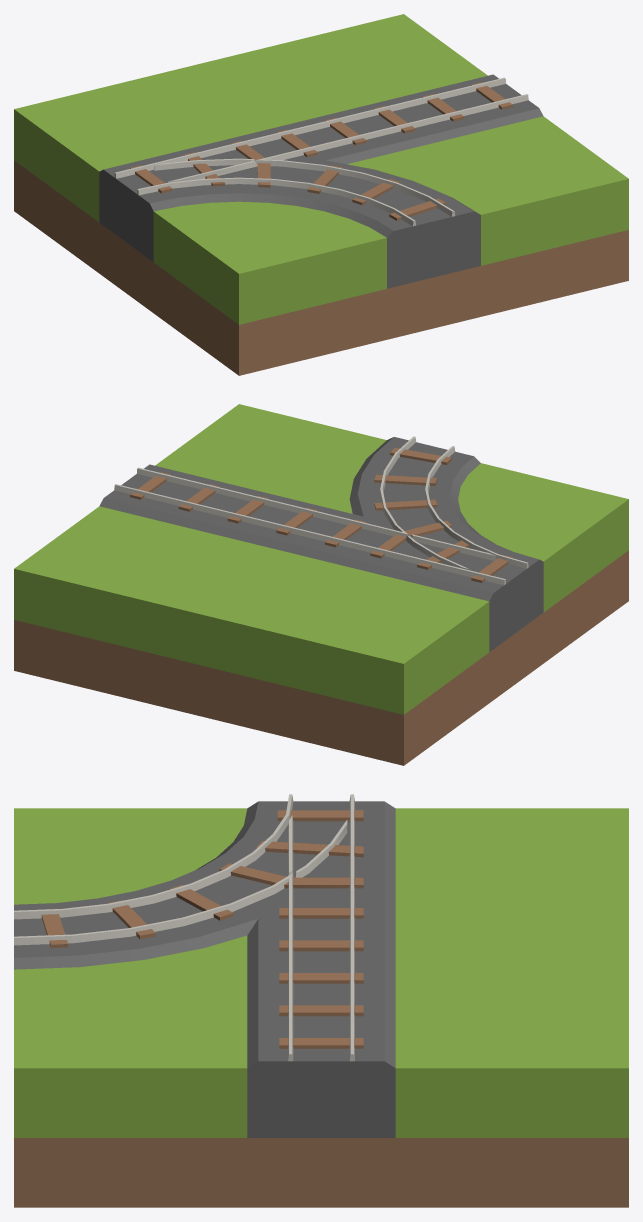
Rendered from rail_split3.fbx.
3 views of the same model, one above another, from view 1: azimuth 30°, elevation 25°; view 2: azimuth 150°, elevation 25°; view 3: azimuth 270°, elevation 25° (orthographic). The views are drawn at different scales.
Visible parts, largest first — view 1: landscape-track-1-y-right; view 2: landscape-track-1-y-right; view 3: landscape-track-1-y-right.
Part boxes in pixels (x1,y1,x2,y2): landscape-track-1-y-right: (14,14,628,375); landscape-track-1-y-right: (14,404,628,765); landscape-track-1-y-right: (14,794,628,1207).
Size of the model in its own units: 8 by 2.2 by 8.
1 material, 1 textured.
